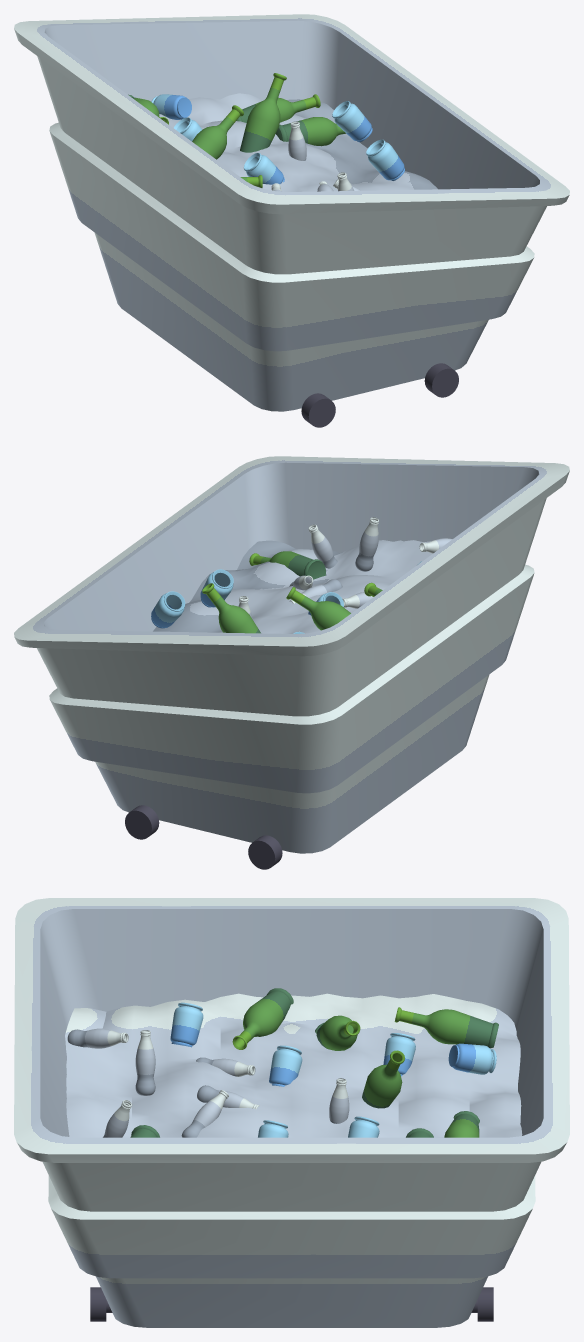
The model's file is separador_Bl.fbx.
The picture shows the model from 3 angles, top to bottom: view 1: azimuth 30°, elevation 25°; view 2: azimuth 150°, elevation 25°; view 3: azimuth 270°, elevation 25°; orthographic projection. The views are drawn at different scales.
Visible parts, largest first — view 1: separador_Bl; view 2: separador_Bl; view 3: separador_Bl.
Part boxes in pixels (box(x1,y1,x2,y2)): separador_Bl: box(14, 14, 569, 427); separador_Bl: box(14, 456, 569, 869); separador_Bl: box(14, 898, 569, 1327).
Size of the model in its own units: 370 by 293 by 492.
